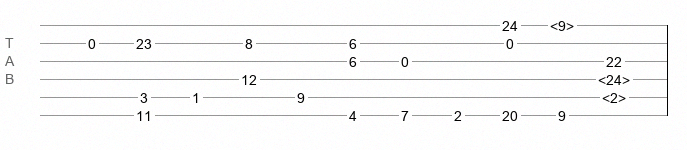0: (88, 36, 96, 46), (401, 54, 409, 64), (506, 36, 514, 46)
1: (192, 90, 200, 100)
11: (136, 108, 152, 118)
12: (241, 72, 257, 82)
2: (454, 108, 462, 118)
20: (502, 108, 518, 118)
22: (606, 54, 622, 64)
23: (136, 36, 152, 46)
24: (502, 18, 518, 28)
3: (140, 90, 148, 100)
4: (349, 108, 357, 118)
6: (349, 36, 357, 46), (349, 54, 357, 64)
7: (401, 108, 409, 118)
8: (245, 36, 253, 46)
9: (297, 90, 305, 100), (558, 108, 566, 118)
harmonic: (598, 72, 630, 82), (550, 18, 574, 28), (602, 90, 626, 100)
